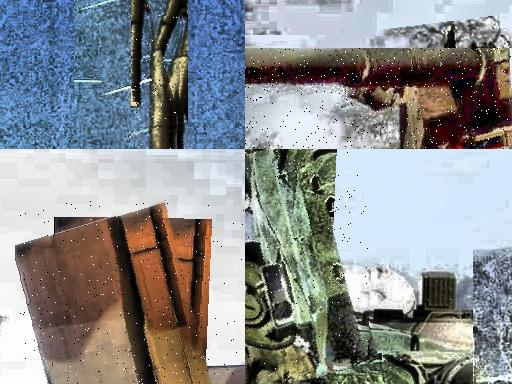tanks: (17, 202, 216, 384), (246, 150, 371, 384), (246, 49, 512, 150), (135, 1, 178, 150)
